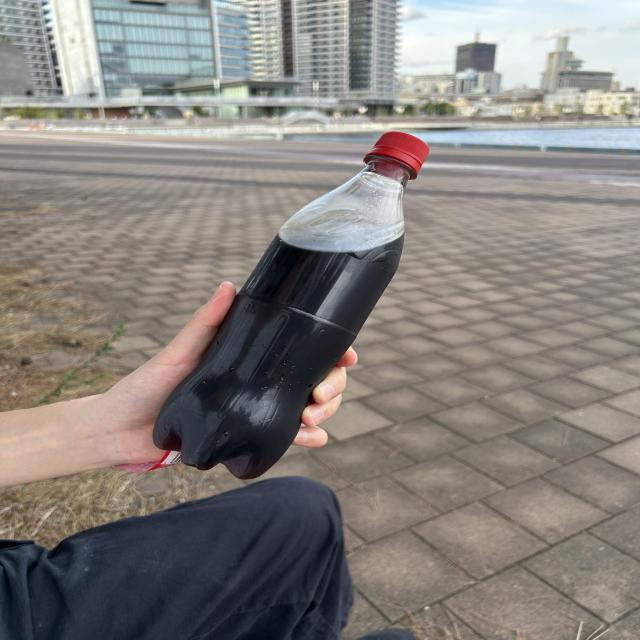high: (153, 132, 429, 479)
